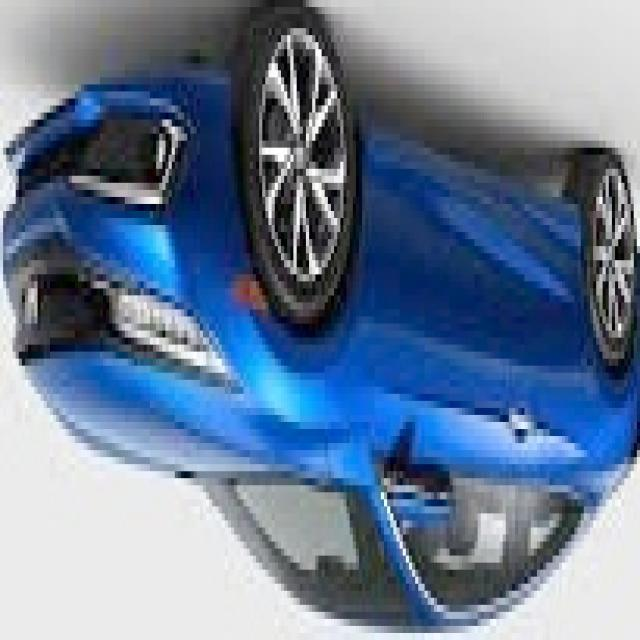blue: (5, 1, 640, 638)
